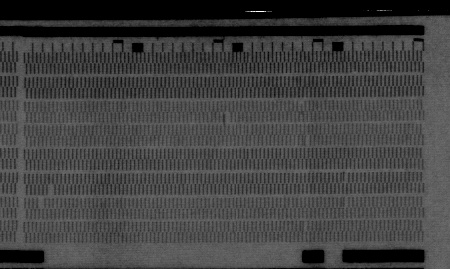Broken hole: (223, 111, 235, 124), (45, 185, 56, 196), (36, 197, 46, 209)
Oblique printing: (295, 100, 308, 114), (338, 195, 351, 208), (301, 134, 313, 147), (339, 169, 350, 182), (299, 219, 309, 232)
